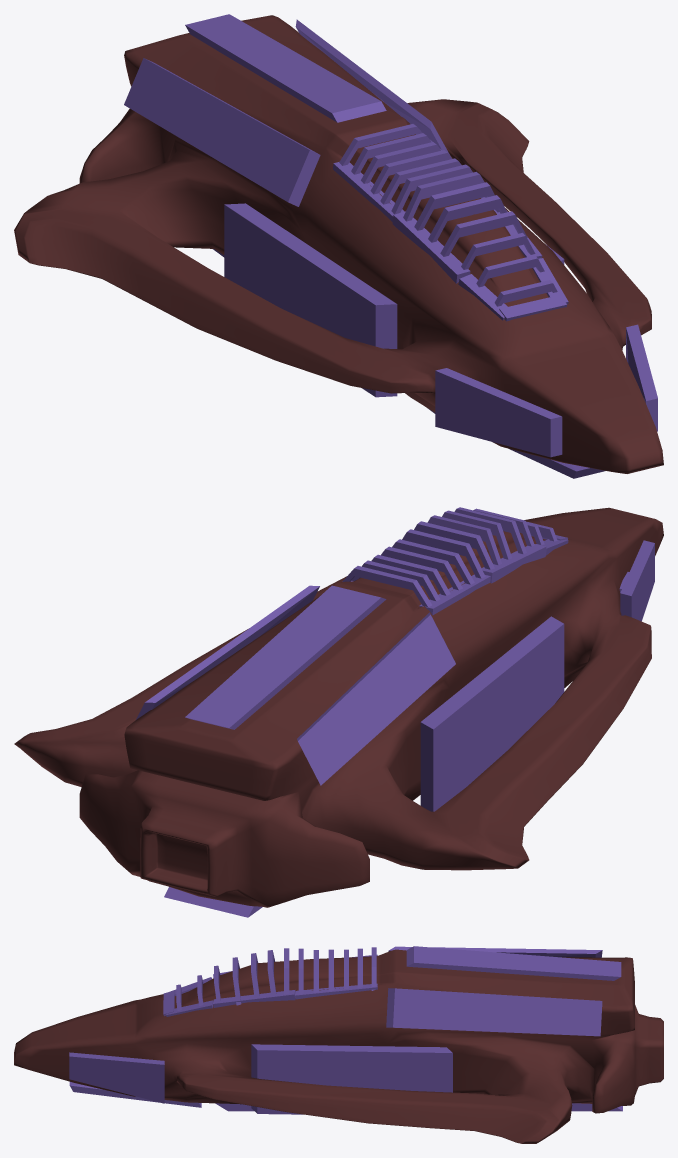
Rendered from PlayerShip.fbx.
The picture shows the model from 3 angles, top to bottom: view 1: azimuth 30°, elevation 25°; view 2: azimuth 150°, elevation 25°; view 3: azimuth 270°, elevation 25°; orthographic projection. The views are drawn at different scales.
Parts seen in each view (by area): view 1: pCube1, pCube2, pCube9, pCube8, pCube5, pCube10, pCube4, pCube25, pCube18, pCube20, pCube17, pCube19 (+13 smaller); view 2: pCube1, pCube2, pCube9, pCube8, pCube10, pCube5, pCube16, pCube6, pCube11, pCube17, pCube14, pCube15 (+7 smaller); view 3: pCube1, pCube3, pCube10, pCube8, pCube4, pCube9, pCube7, pCube28, pCube29, pCube6, pCube27.
Boxes of the visible parts, left/top/right/bottom form: pCube1: left=14, top=15, right=663, bottom=473; pCube2: left=224, top=203, right=397, bottom=397; pCube9: left=124, top=58, right=320, bottom=206; pCube8: left=185, top=14, right=386, bottom=122; pCube5: left=435, top=368, right=562, bottom=457; pCube10: left=295, top=19, right=449, bottom=154; pCube4: left=626, top=324, right=657, bottom=431; pCube25: left=392, top=211, right=470, bottom=283; pCube18: left=414, top=182, right=499, bottom=230; pCube20: left=440, top=211, right=527, bottom=256; pCube17: left=403, top=171, right=487, bottom=221; pCube19: left=428, top=195, right=506, bottom=242; pCube1: left=14, top=507, right=663, bottom=907; pCube2: left=420, top=616, right=564, bottom=811; pCube9: left=297, top=612, right=455, bottom=785; pCube8: left=185, top=585, right=386, bottom=729; pCube10: left=136, top=585, right=319, bottom=719; pCube5: left=619, top=540, right=654, bottom=621; pCube16: left=402, top=529, right=485, bottom=578; pCube6: left=164, top=887, right=262, bottom=917; pCube11: left=342, top=566, right=431, bottom=606; pCube17: left=414, top=521, right=494, bottom=569; pCube14: left=381, top=546, right=462, bottom=590; pCube15: left=392, top=539, right=474, bottom=584; pCube1: left=14, top=949, right=663, bottom=1143; pCube3: left=251, top=1044, right=452, bottom=1114; pCube10: left=386, top=988, right=602, bottom=1036; pCube8: left=406, top=946, right=621, bottom=980; pCube4: left=69, top=1052, right=164, bottom=1103; pCube9: left=388, top=946, right=602, bottom=957; pCube7: left=69, top=1082, right=201, bottom=1107; pCube28: left=213, top=990, right=295, bottom=1007; pCube29: left=295, top=983, right=377, bottom=999; pCube6: left=215, top=1103, right=622, bottom=1111; pCube27: left=166, top=1000, right=213, bottom=1016.
Size of the model in its own units: 6 by 2.36 by 9.76.
